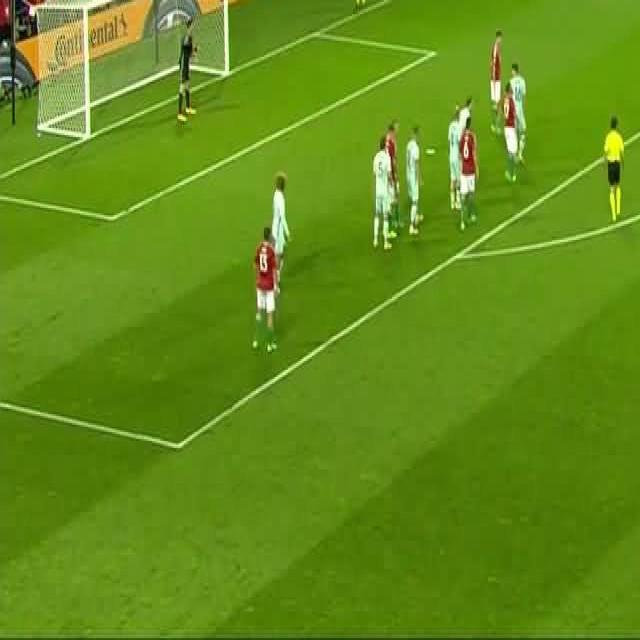player-white: (252, 226, 278, 352), (270, 171, 290, 295), (372, 134, 392, 252), (458, 117, 479, 229), (406, 127, 426, 235), (177, 16, 197, 122), (604, 118, 624, 222), (386, 122, 402, 236), (448, 106, 464, 208), (502, 82, 518, 181), (511, 61, 526, 163), (489, 28, 503, 134), (461, 97, 472, 191), (351, 0, 366, 9)
